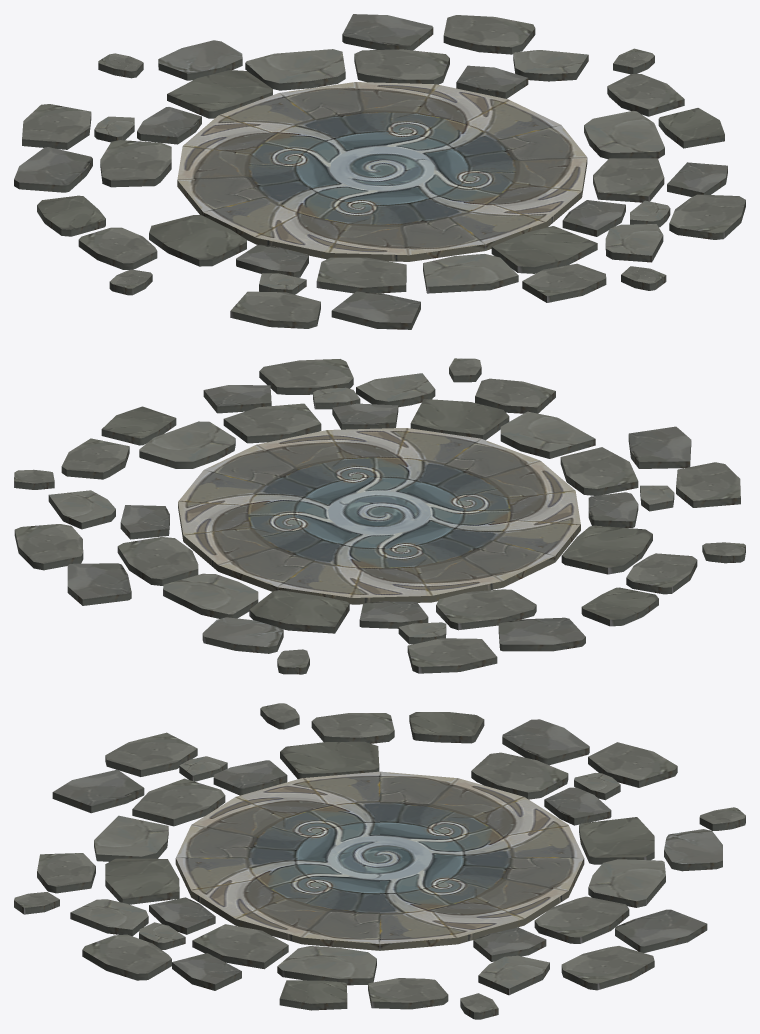
File: DN_lv4_CrescentMoon.FBX
3 renders of one model, top to bottom at view 1: azimuth 30°, elevation 25°; view 2: azimuth 150°, elevation 25°; view 3: azimuth 270°, elevation 25°, orthographic.
Parts seen in each view (by area): view 1: DN_lv4_CrescentMoon; view 2: DN_lv4_CrescentMoon; view 3: DN_lv4_CrescentMoon.
Part boxes in pixels (<box>): DN_lv4_CrescentMoon: <box>14,14,745,329</box>; DN_lv4_CrescentMoon: <box>14,358,745,674</box>; DN_lv4_CrescentMoon: <box>14,703,745,1019</box>.
Size of the model in its own units: 1220 by 13.27 by 1220.
